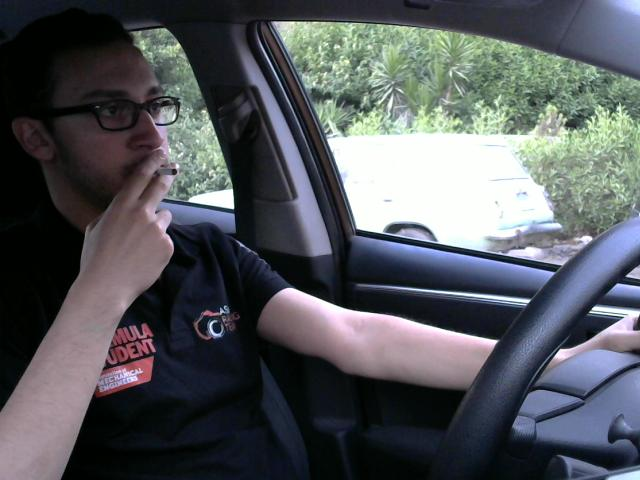Smoking: (144, 158, 185, 188)
